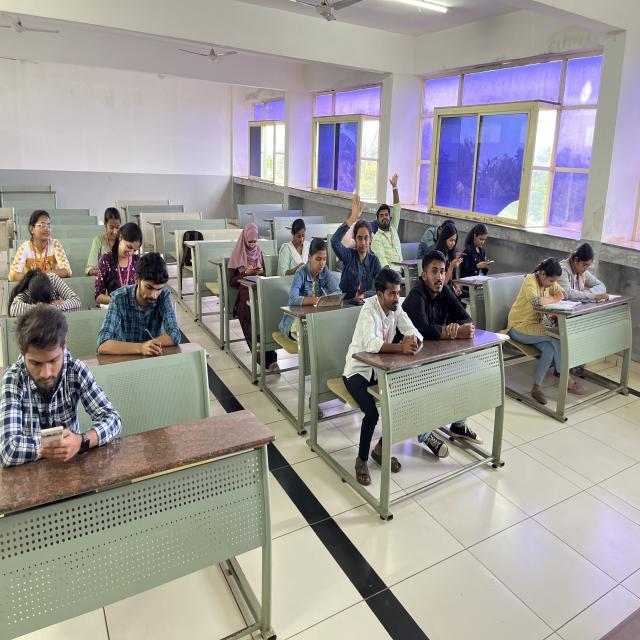Hand Rising: (334, 191, 385, 301), (369, 170, 409, 262)
Reading: (556, 240, 618, 306), (506, 252, 570, 315)
Sleeping: (1, 259, 92, 327)
Using Phone: (0, 297, 126, 473), (226, 220, 271, 296), (277, 216, 315, 280), (461, 220, 502, 276), (432, 221, 468, 282)
Writing: (96, 248, 196, 362), (285, 235, 346, 317), (94, 220, 144, 305)
